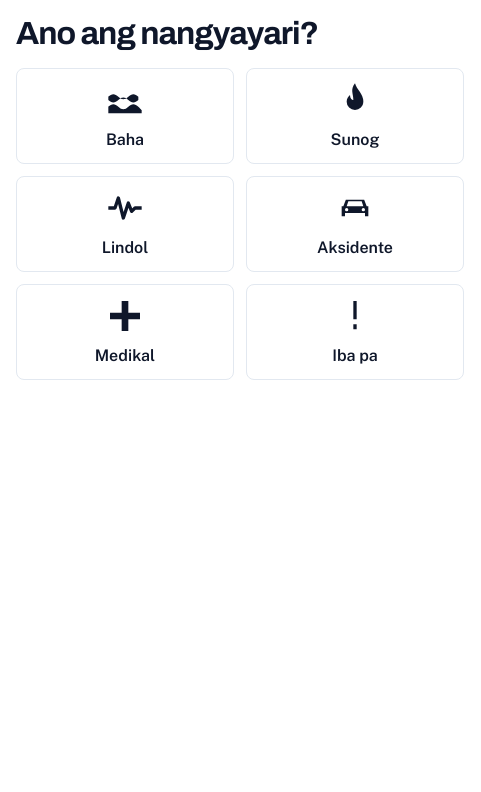
Test case: ReportPage › renders the heading and the slider at its default level
Click the button "Baha".
click(125, 116)  # box [16, 68, 234, 164]
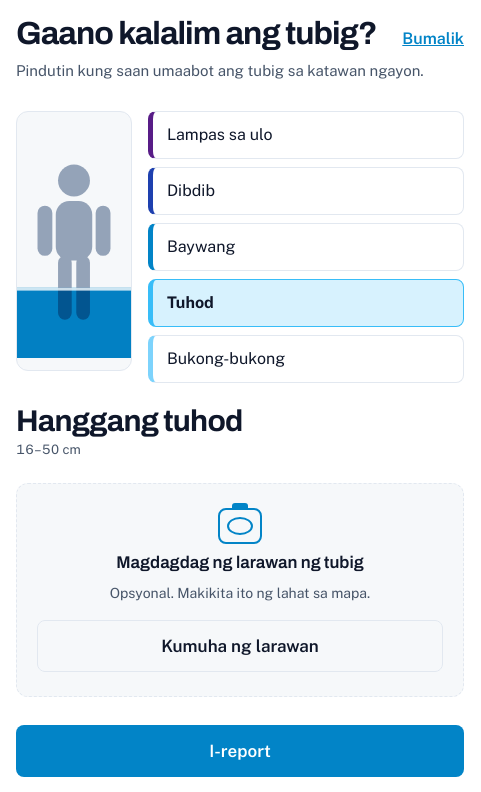
expect the heading "Gaano kalalim ang tubig?" is shown: met, box [16, 16, 377, 52]
expect the text "Hanggang tuhod" is shown: met, box [16, 404, 242, 436]
